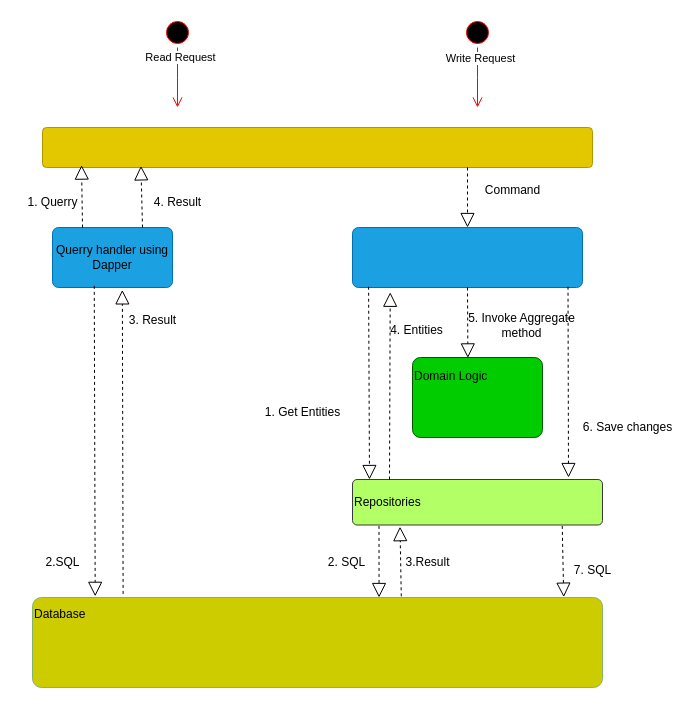
The diagram is 699 pixels wide and 705 high, and some of its shapes have lost their labels. The shapes that lost their labels are listed below. From the top down, each one's box as (x1, y1, x2, y2) in pixels, then its label:
(42, 126, 592, 168): GUI
(352, 226, 582, 288): Command handler using DDD and EF
